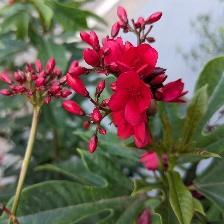jatropha: (109, 72, 157, 133)
